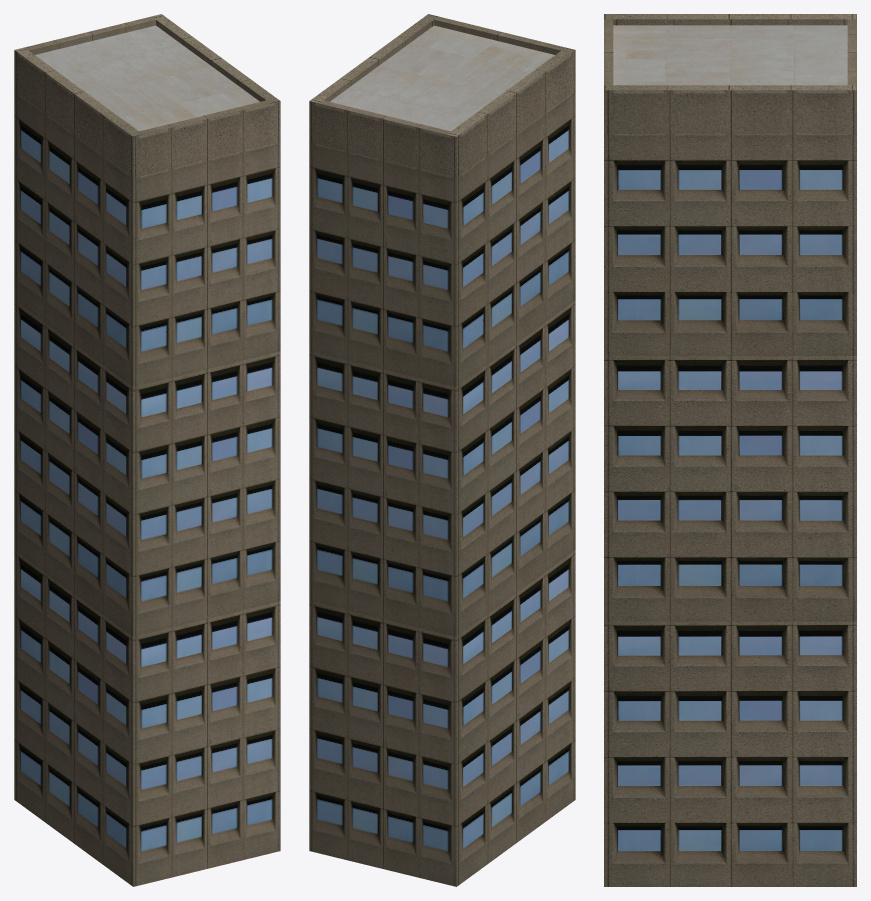
The model's file is house2.FBX.
3 renders of one model, left to right at view 1: azimuth 30°, elevation 25°; view 2: azimuth 150°, elevation 25°; view 3: azimuth 270°, elevation 25°, orthographic. The views are drawn at different scales.
Parts seen in each view (by area): view 1: Box001; view 2: Box001; view 3: Box001.
Boxes of the visible parts, <box> form: Box001: <box>14,14,280,886</box>; Box001: <box>309,14,575,886</box>; Box001: <box>604,14,856,886</box>.
Size of the model in its own units: 71.47 by 348 by 100.
